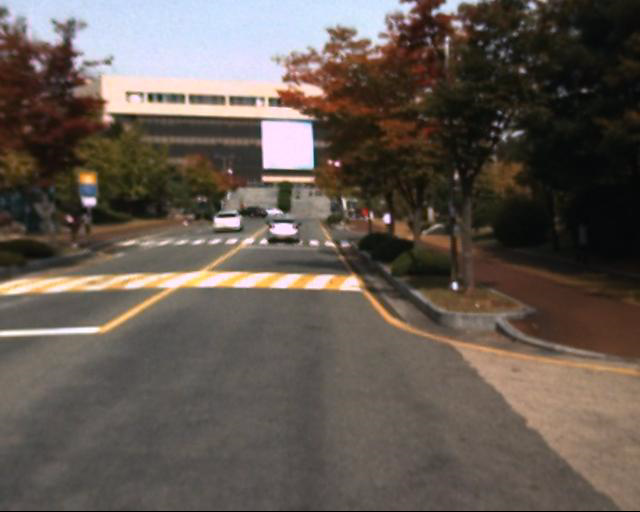person: (567, 218, 596, 286)
